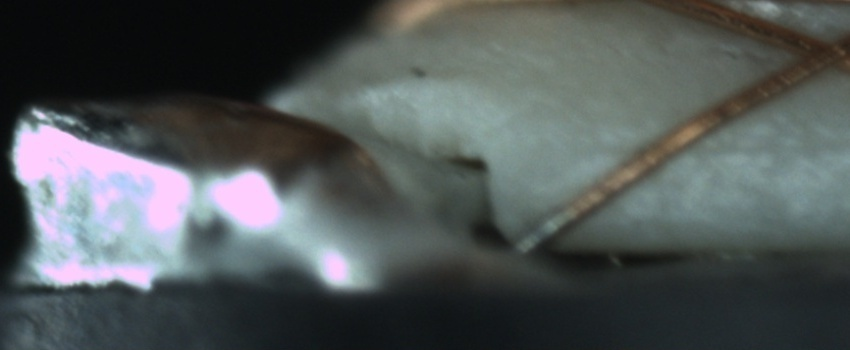CL: (777, 22, 849, 80)
DL: (606, 112, 850, 182)
TS: (508, 204, 571, 258)
